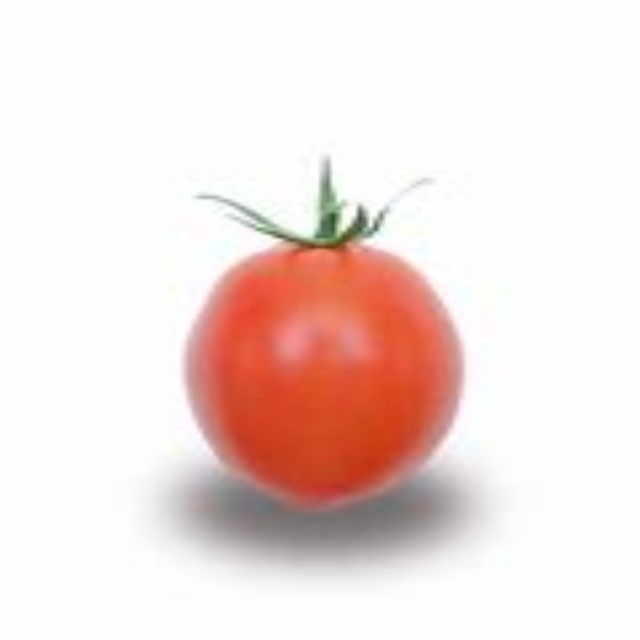tomato: (176, 210, 467, 518)
